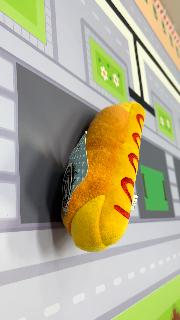hotdog: (60, 101, 146, 253)
